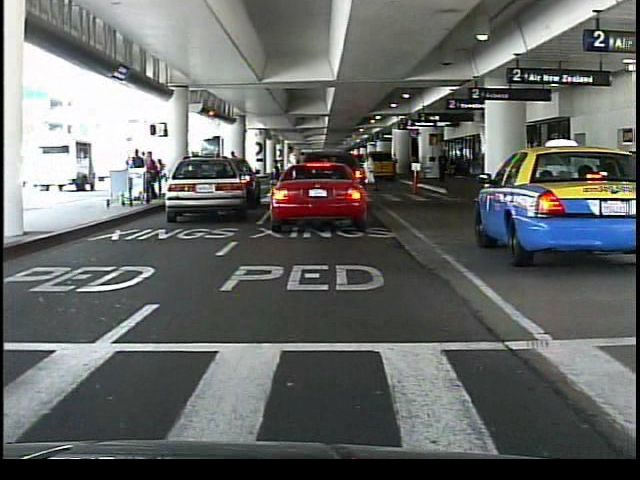person: (228, 149, 244, 201), (134, 147, 149, 200), (285, 148, 299, 204), (268, 160, 284, 208), (363, 150, 378, 190), (436, 151, 450, 186)
